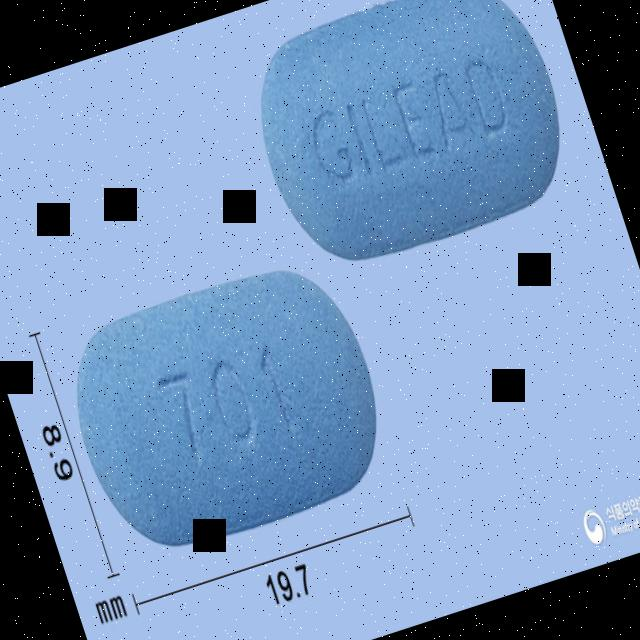Truvada Tab: (49, 247, 407, 570), (232, 0, 587, 281)
